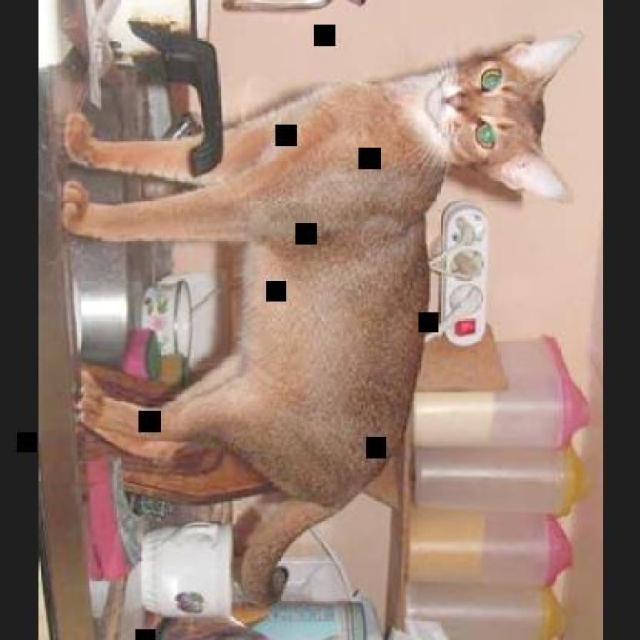unauthorized: (57, 28, 583, 606)
